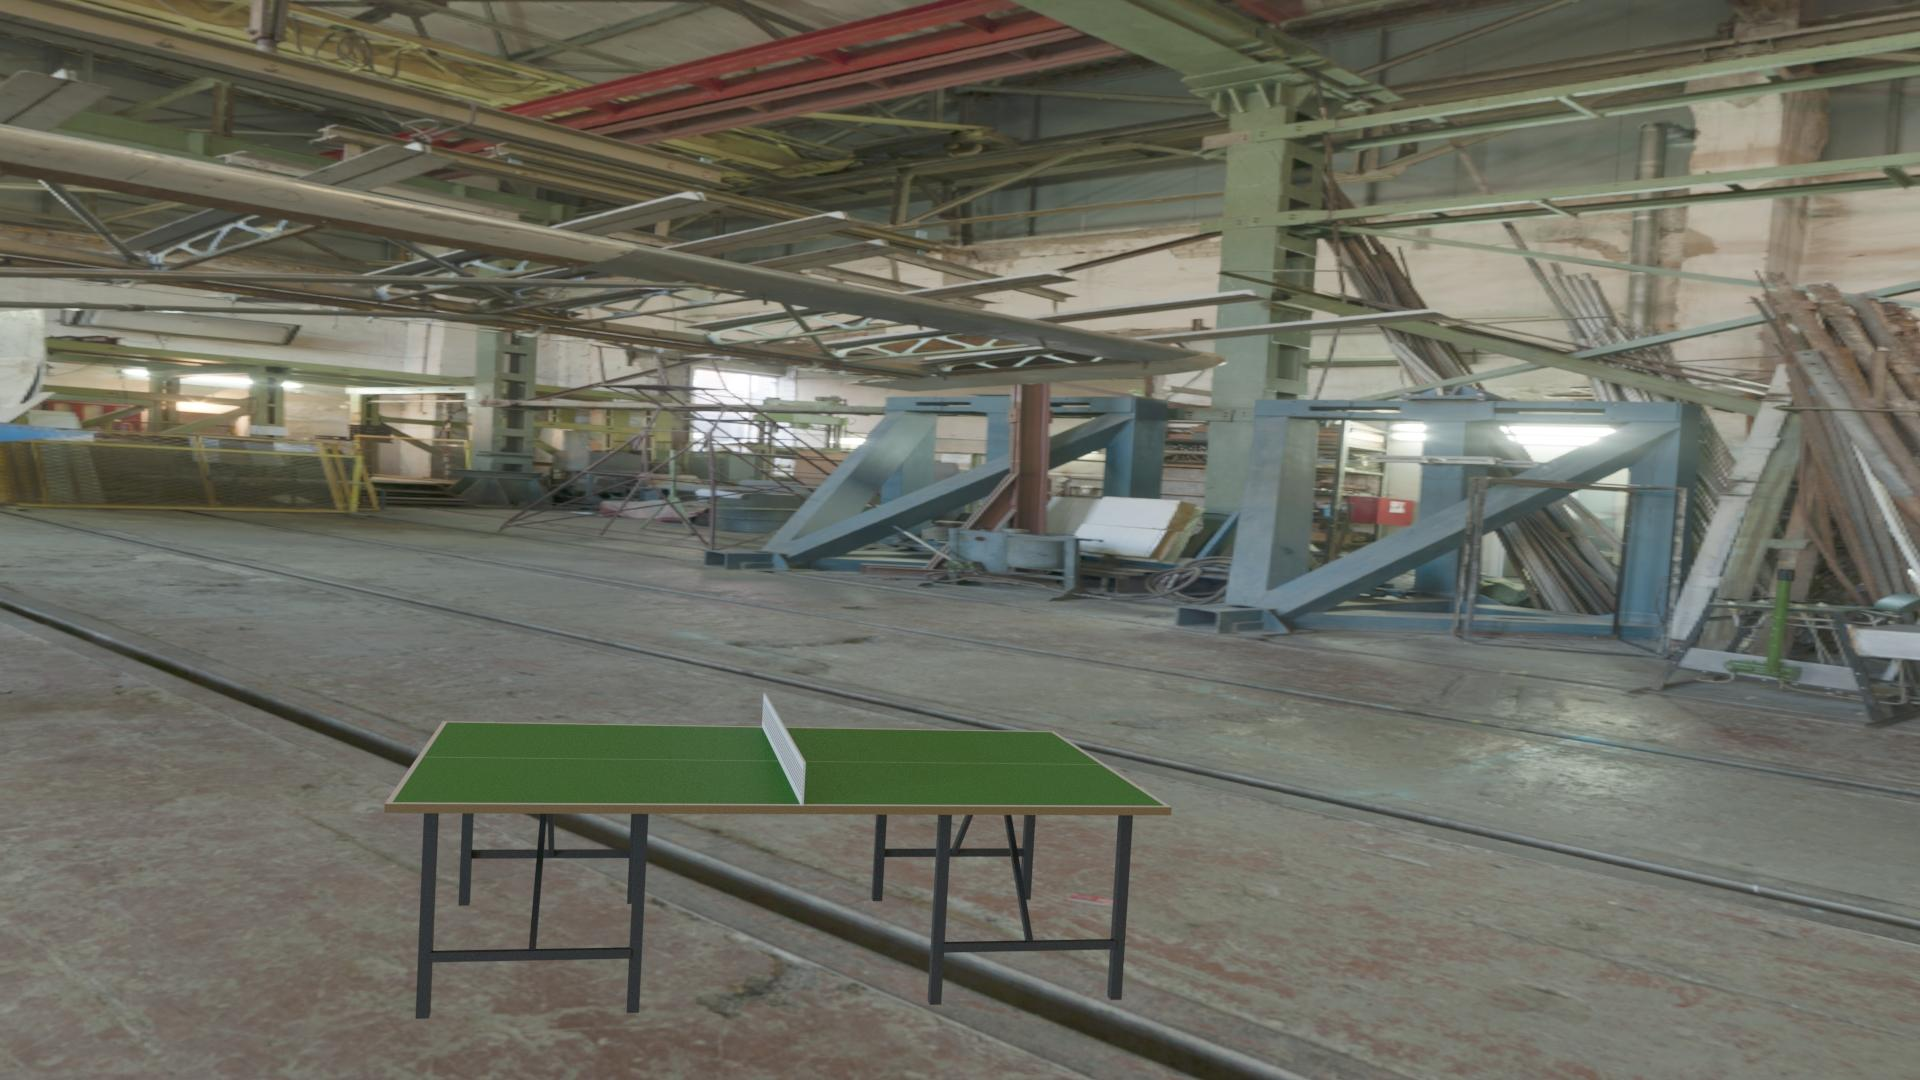table: (392, 723, 1164, 806)
